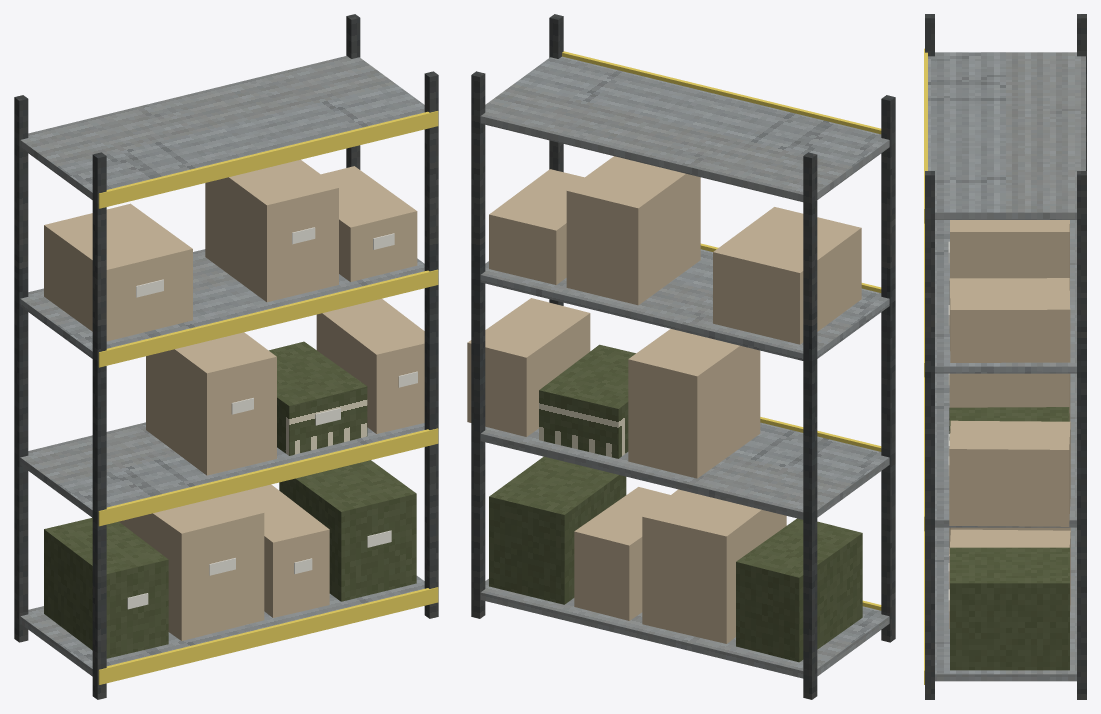
The model's file is shelf.glb.
3 views of the same model, side by side, from view 1: azimuth 30°, elevation 25°; view 2: azimuth 150°, elevation 25°; view 3: azimuth 270°, elevation 25° (orthographic). The views are drawn at different scales.
Visible parts, largest first — view 1: body; view 2: body; view 3: body.
Part boxes in pixels (x1,y1,x2,y2): body: (14,14,438,699); body: (467,14,895,699); body: (924,14,1086,699).
Size of the model in its own units: 1.98 by 2.9 by 0.815.
6 materials, 3 textured.
